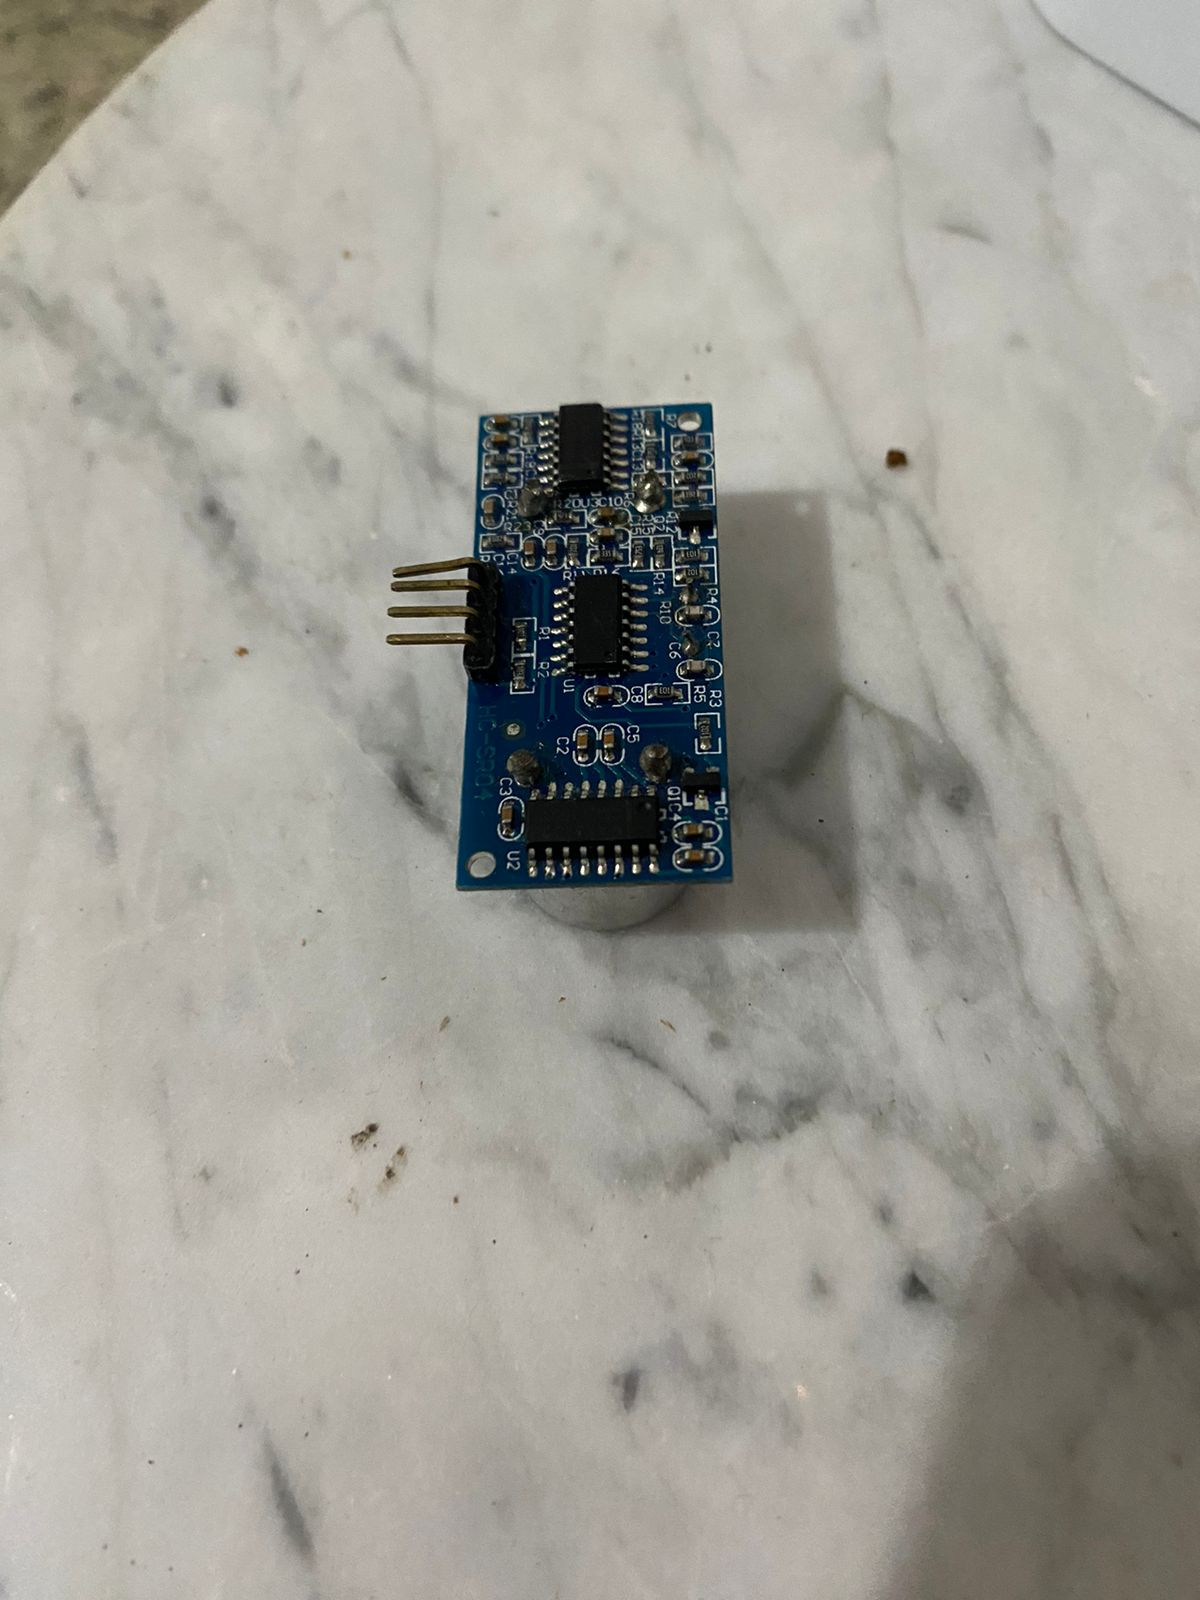capteur-ultrasonique: (379, 389, 760, 942)
